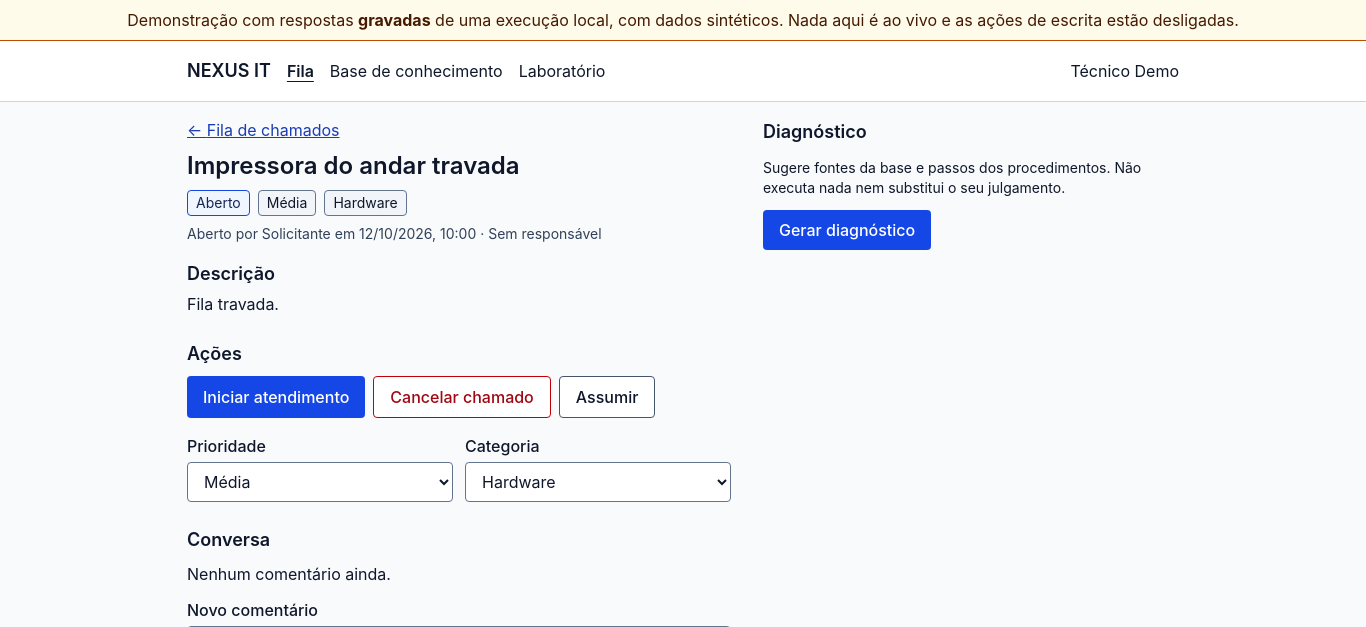
Test: telas em modo demo › uma ação de escrita mostra o motivo em vez de falhar em silêncio
Click the button "Iniciar atendimento" at (276, 397), box [187,376,365,418]
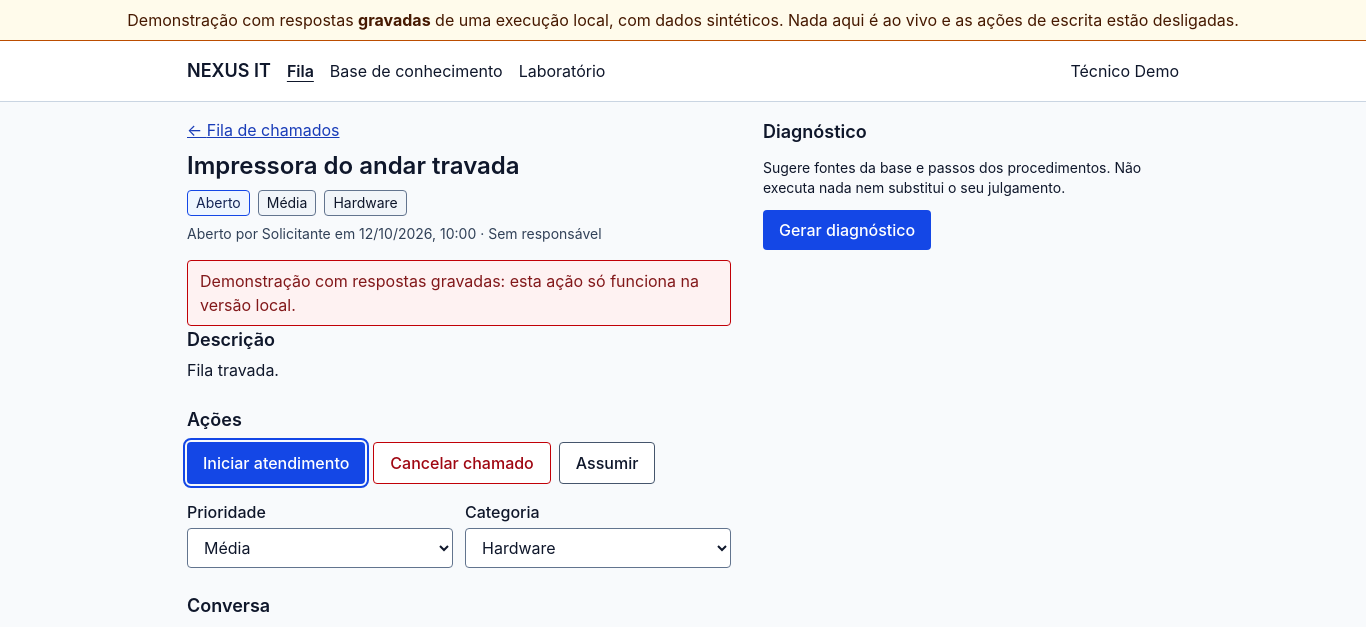
Result: the message shows "só funciona na versão local" at [200,271,699,315]
